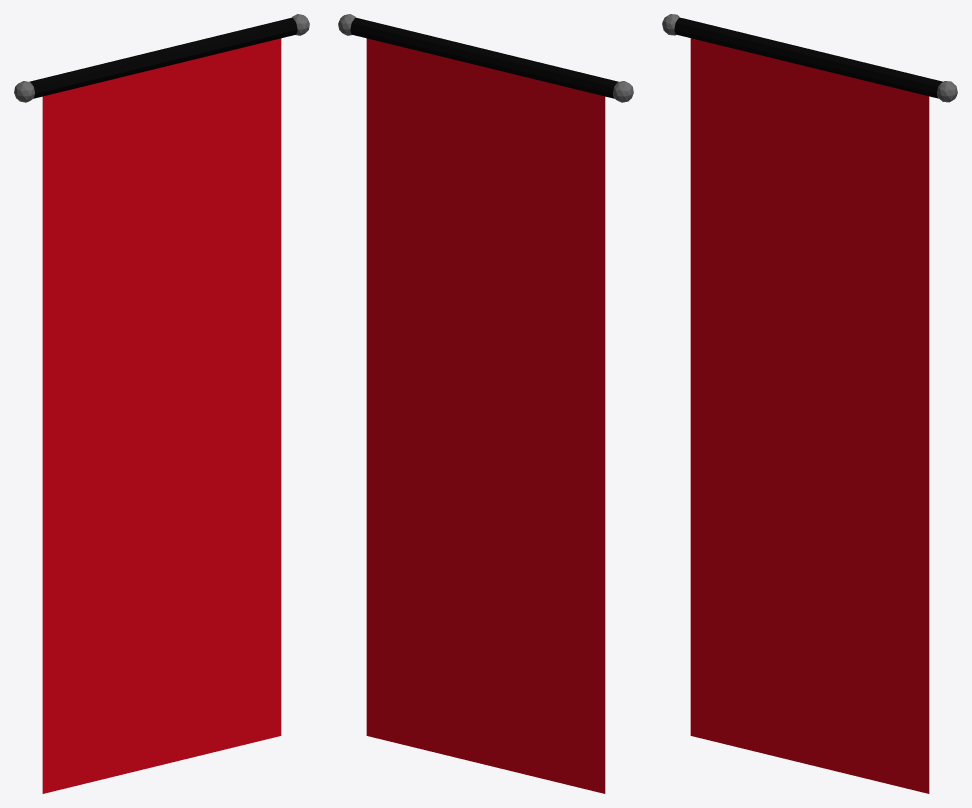
The model's file is FLAG0.fbx.
The picture shows the model from 3 angles, left to right: view 1: azimuth 30°, elevation 25°; view 2: azimuth 150°, elevation 25°; view 3: azimuth 330°, elevation 25°; orthographic projection.
Visible parts, largest first — view 1: Plane, Cylinder; view 2: Plane, Cylinder; view 3: Plane, Cylinder.
Part boxes in pixels (box(x1,y1,x2,y2)): Plane: box(42, 38, 281, 793); Cylinder: box(29, 18, 297, 98); Plane: box(366, 38, 605, 793); Cylinder: box(350, 18, 618, 98); Plane: box(690, 38, 929, 793); Cylinder: box(674, 18, 942, 98).
Size of the model in its own units: 73.6 by 172 by 4.83.
